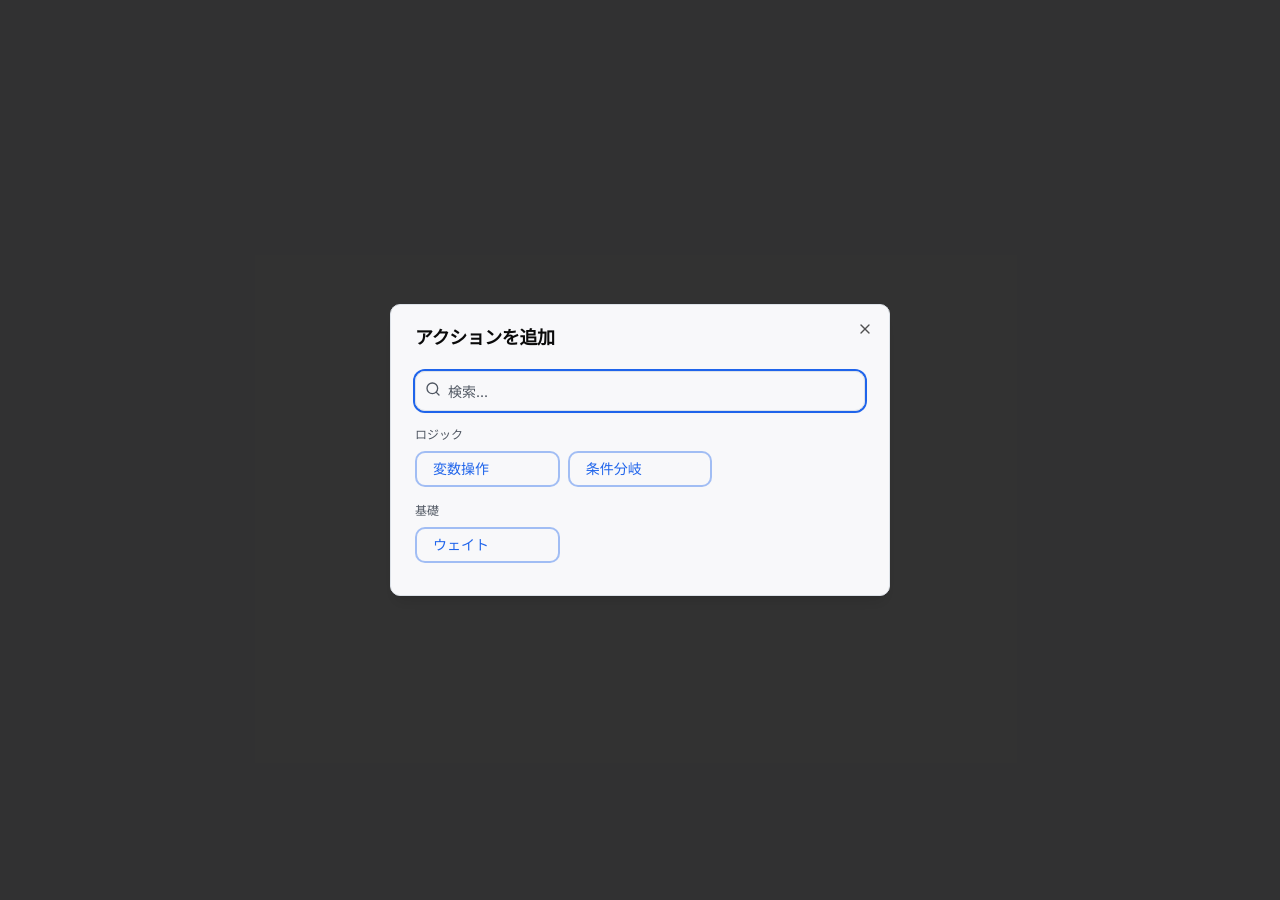
ActionSelector › 検索でフィルタリングできる
Type "ウェイト" into the field with placeholder "検索...".
click(640, 391); type("ウェイト")  # box [415, 371, 865, 411]
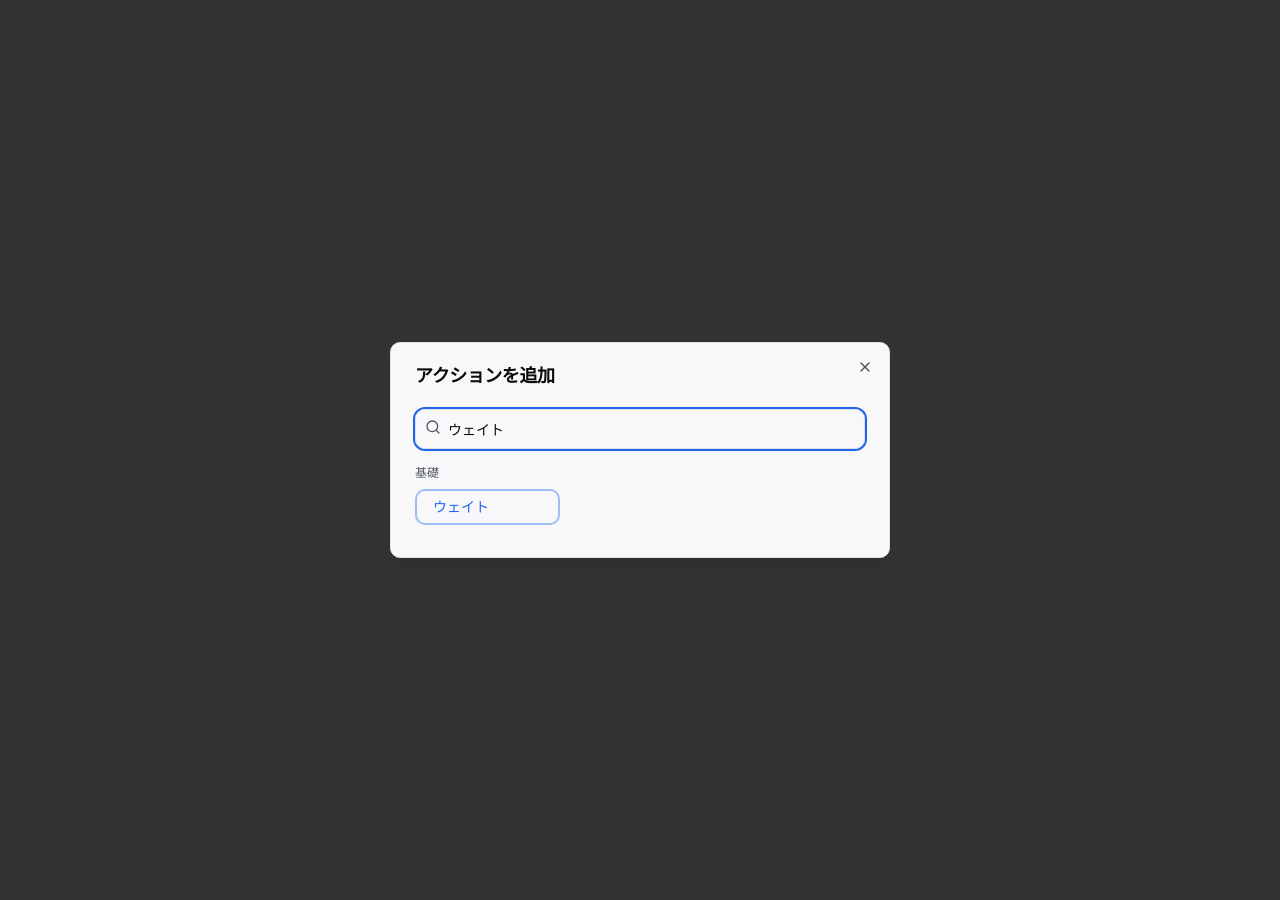
Expected: the button "ウェイト" is shown, [415, 489, 560, 525]
Expected: the button "変数操作" is gone
